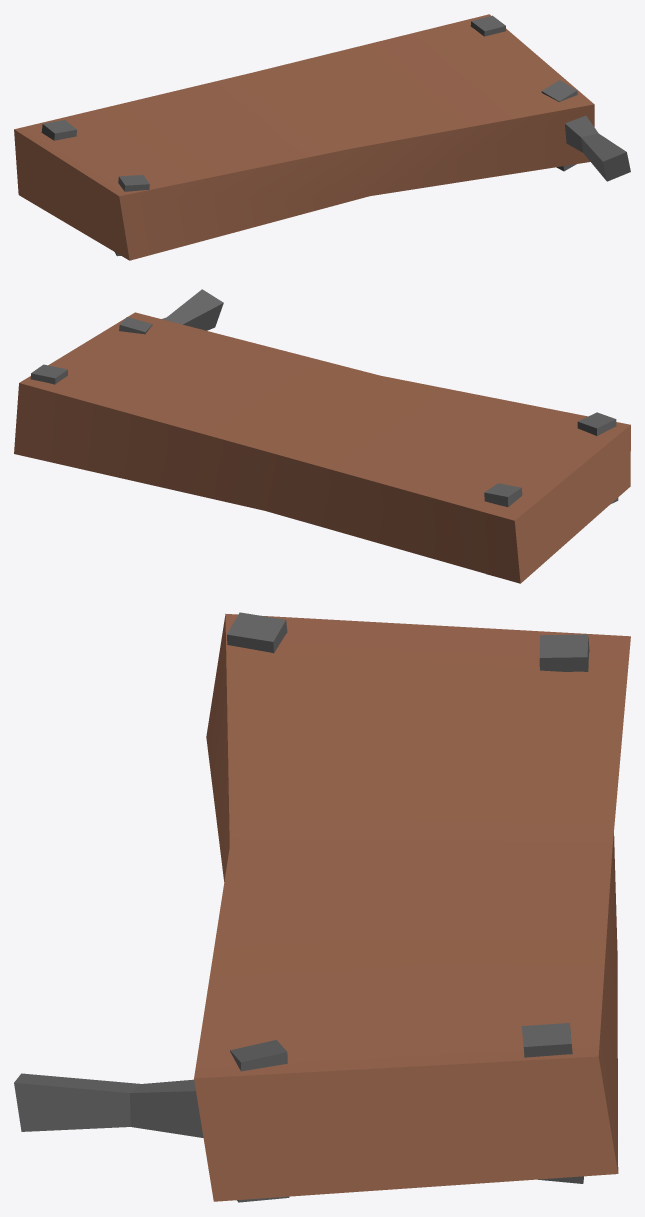
The model's file is ice_bridge_wood_01.FBX.
3 renders of one model, top to bottom at view 1: azimuth 30°, elevation 25°; view 2: azimuth 150°, elevation 25°; view 3: azimuth 270°, elevation 25°, orthographic. The views are drawn at different scales.
Visible parts, largest first — view 1: bridge_wood_01, bridge_wood_hinge; view 2: bridge_wood_01, bridge_wood_hinge; view 3: bridge_wood_01, bridge_wood_hinge.
Part boxes in pixels (box(x1,y1,x2,y2)): bridge_wood_01: box(14, 14, 594, 260); bridge_wood_hinge: box(565, 115, 630, 181); bridge_wood_01: box(14, 312, 630, 583); bridge_wood_hinge: box(161, 289, 223, 330); bridge_wood_01: box(194, 612, 630, 1202); bridge_wood_hinge: box(14, 1073, 203, 1137).
Bounding box in the file's own units: 2.17 × 0.3972 × 1.29.
Materials: 1 (1 with a texture image).
